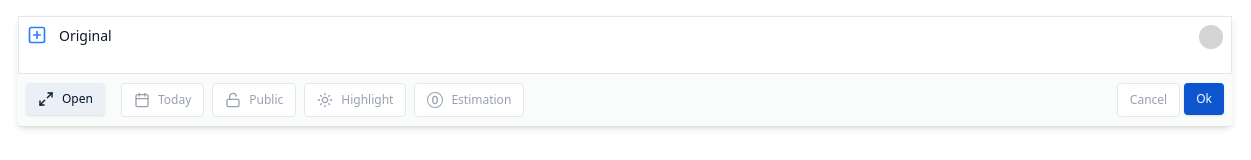
TaskForm Component › should return to "Ok" state if edited text matches initialValue
The width and height of the screenshot is (1251, 160).
Replace the text in the text box showing "Original" with "Changed" at [623, 36], box [59,25,1187,48]
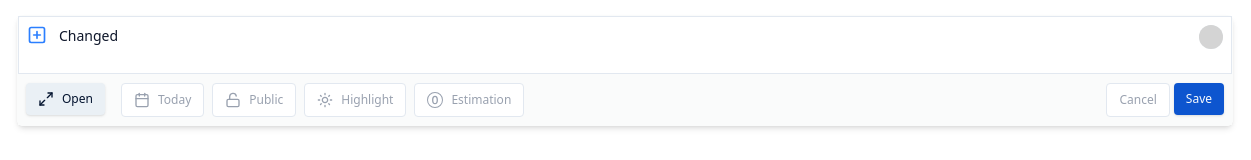
Check: the text "Save" is shown, box [1186,91,1212,107]
Replace the text in the text box showing "Original" with "Original" at [623, 36], box [59,25,1187,48]
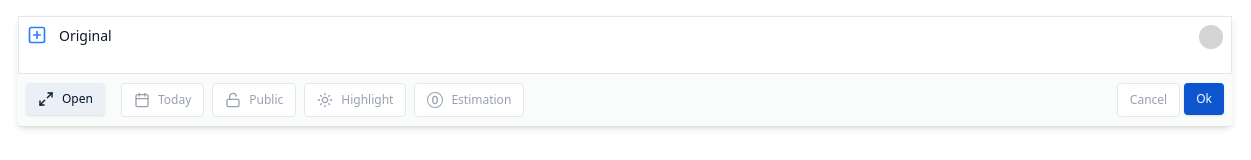
Check: the text "Ok" is shown, box [1196,91,1212,107]
